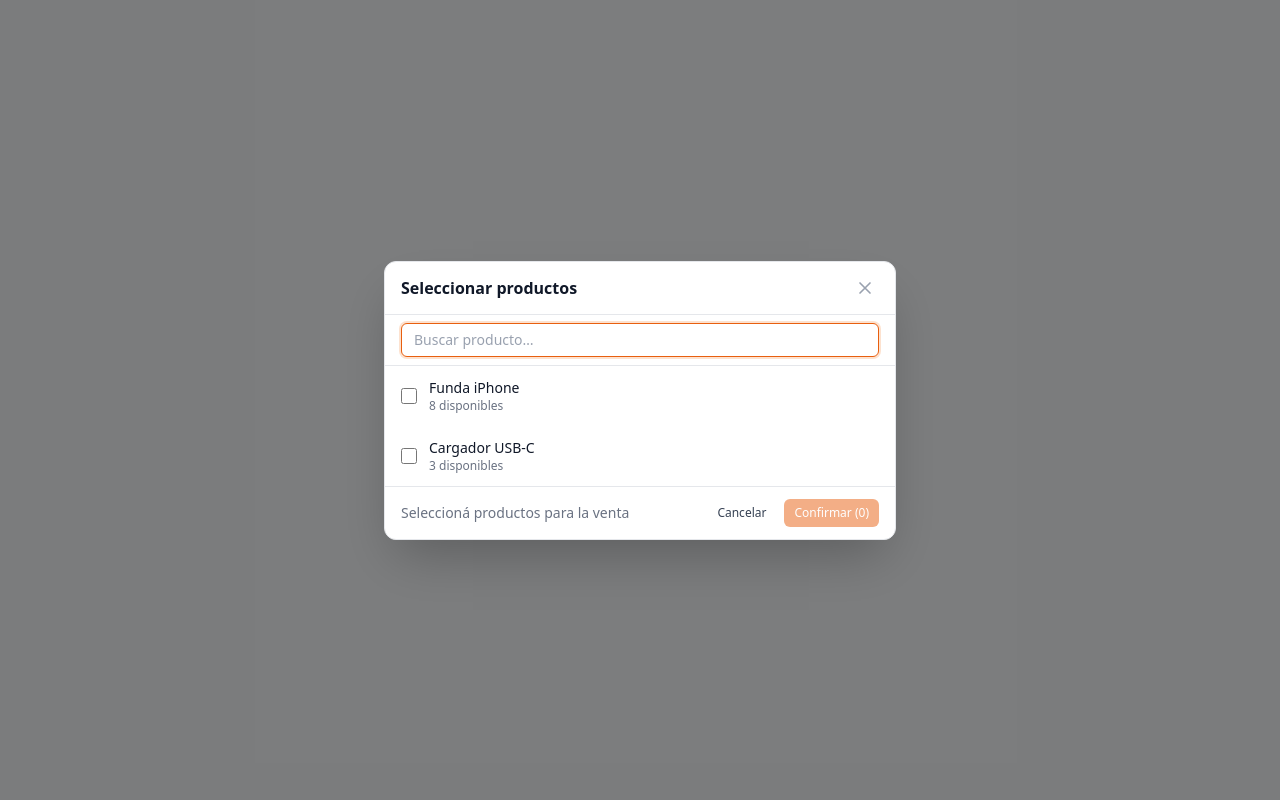
Scenario: ProductPickerModal › la cantidad no puede pasar de las unidades disponibles
Expected: the text "Funda iPhone" is shown, [429,378,519,396]
Click the checkbox labelled "Funda iPhone 8 disponibles" at (409, 396), box [401,388,417,404]
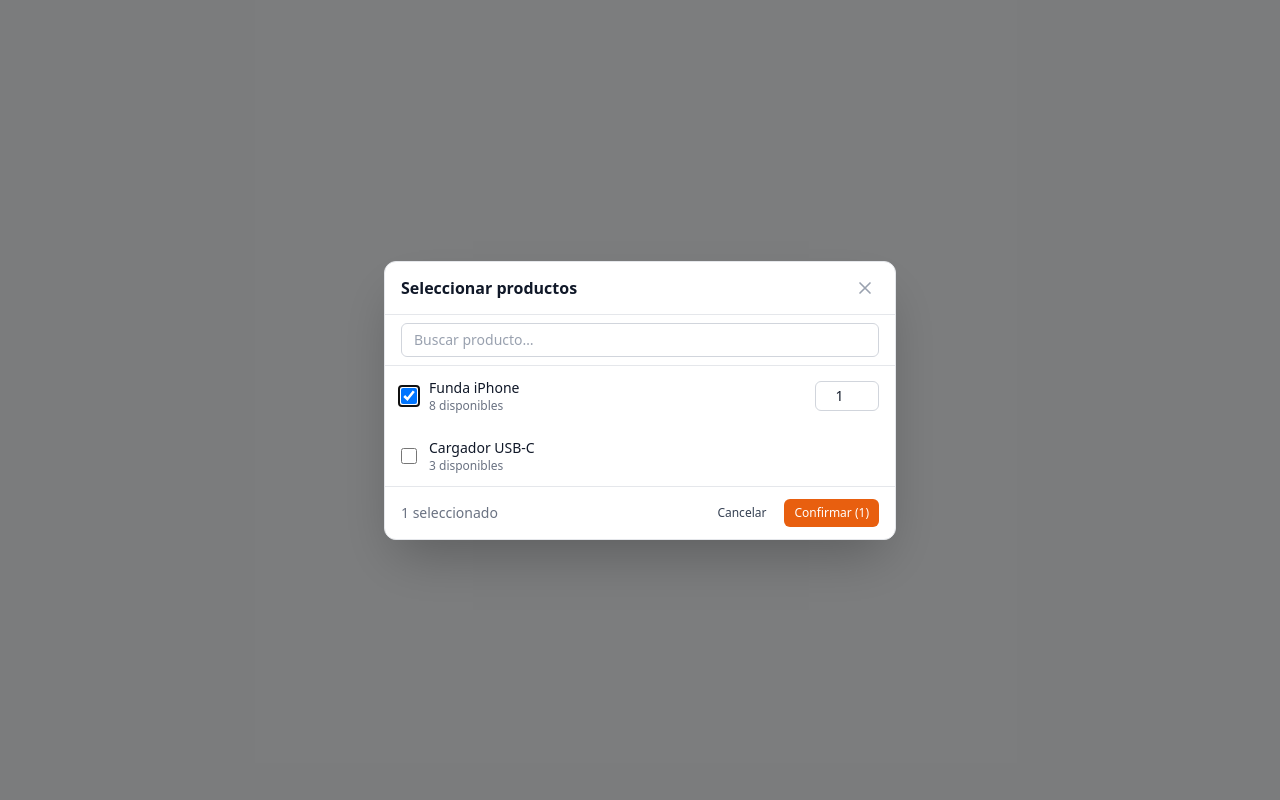
Replace the text in the number field named "Cantidad para Funda iPhone" with "99" at (847, 396), box [815,380,879,410]
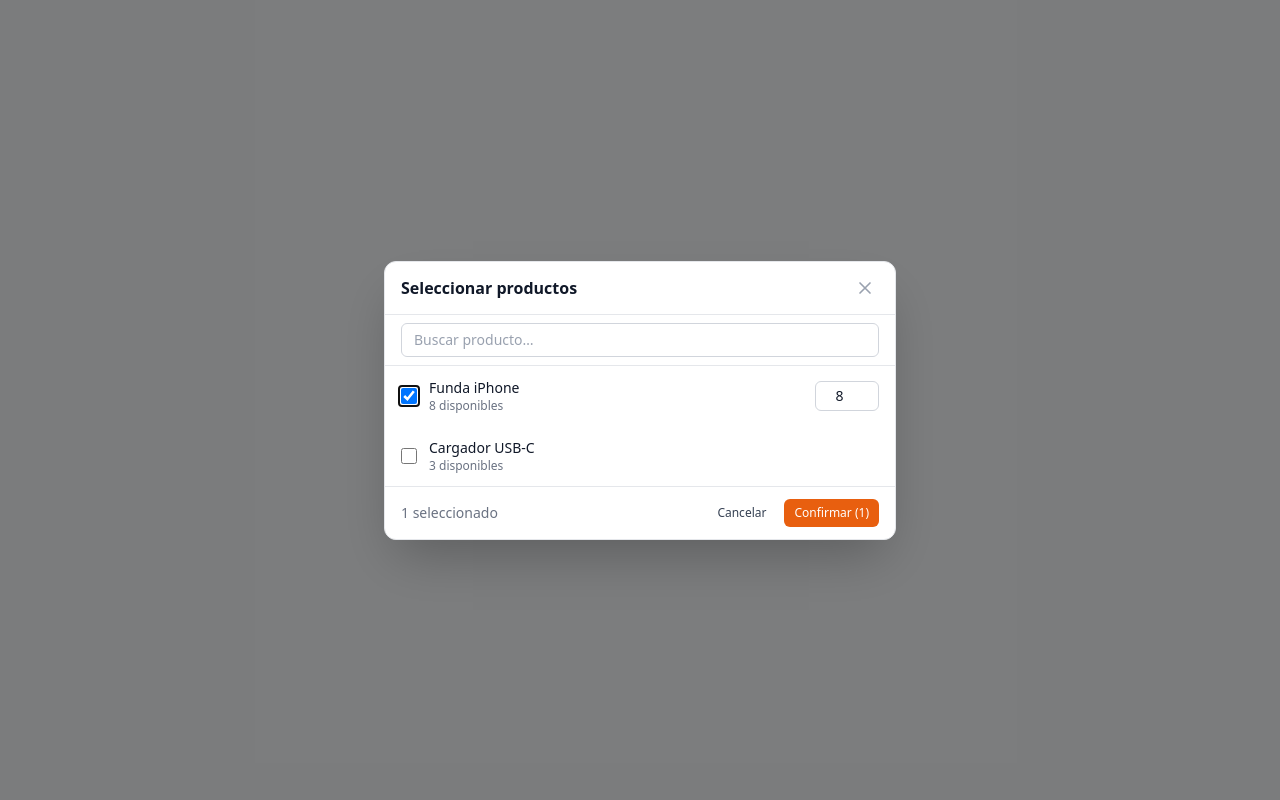
Expected: the number field named "Cantidad para Funda iPhone" holds "8", [815,380,879,410]
